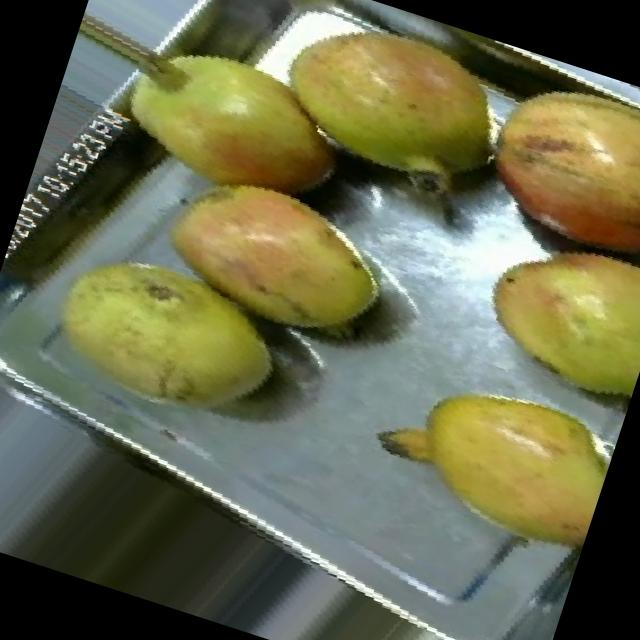fruit: (122, 135, 432, 385), (79, 0, 385, 244), (240, 0, 542, 234), (367, 348, 626, 580), (441, 42, 640, 297), (445, 203, 640, 426)
